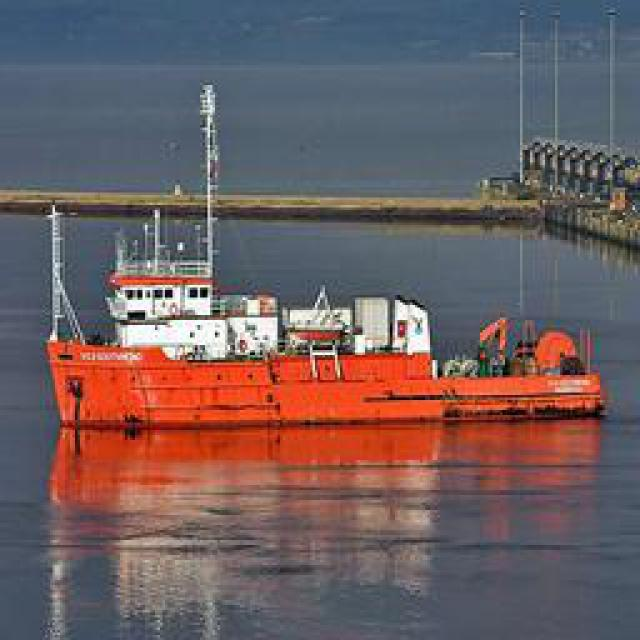Ship: (60, 339, 598, 429)
